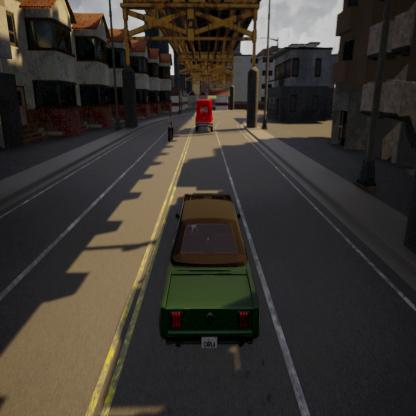Cars: (163, 191, 258, 348), (196, 95, 214, 135), (166, 115, 174, 142)
